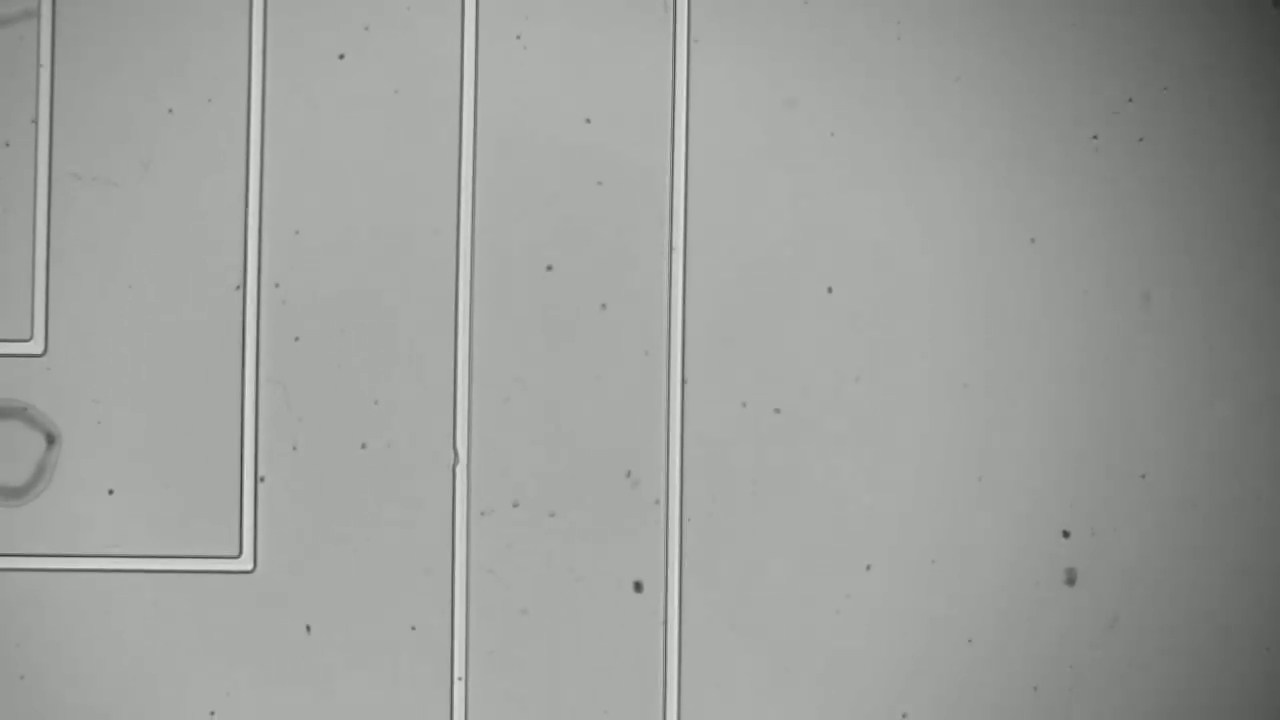edge_bite: (441, 441, 477, 471)
